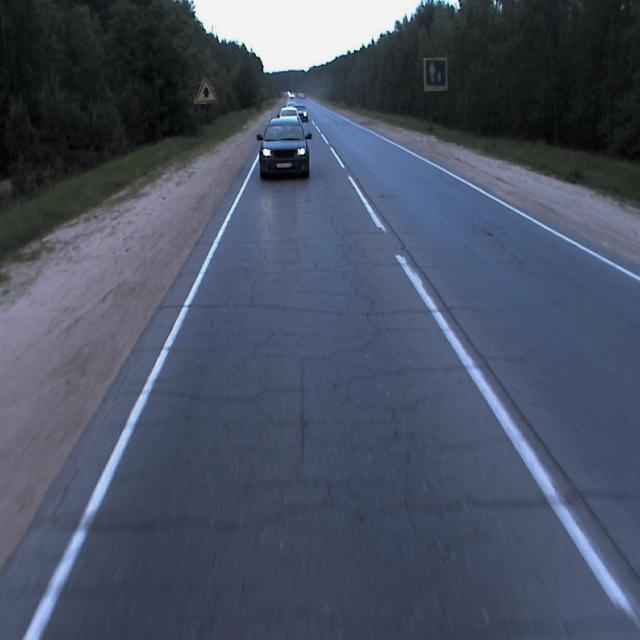road: (0, 98, 639, 639), (282, 98, 304, 108), (277, 114, 279, 117)
